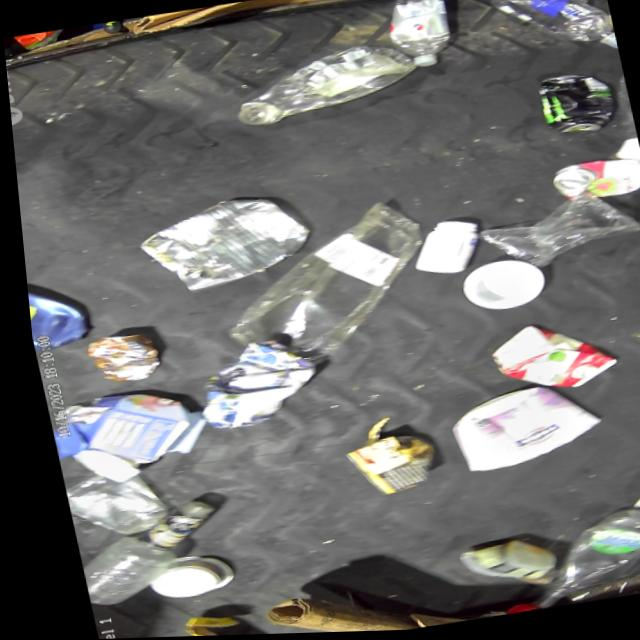can: (127, 188, 316, 297), (333, 431, 433, 501), (531, 70, 622, 141), (75, 327, 160, 388), (542, 156, 640, 207)
non_white_jug: (37, 380, 205, 476), (180, 334, 319, 431), (479, 317, 613, 401)
plastic_bottle: (224, 39, 419, 129), (501, 502, 640, 612), (485, 0, 617, 69), (380, 0, 457, 72)
